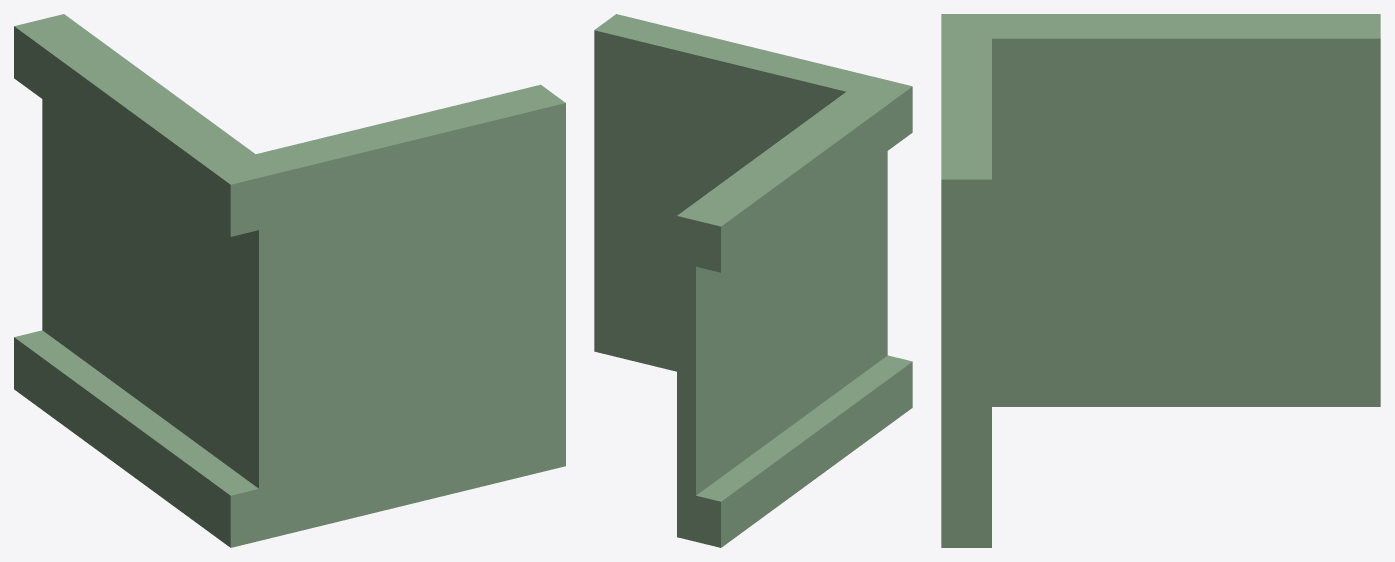
File: lowerCasePart2_obj.obj
3 views of the same model, side by side, from view 1: azimuth 30°, elevation 25°; view 2: azimuth 150°, elevation 25°; view 3: azimuth 270°, elevation 25° (orthographic). The views are drawn at different scales.
Parts seen in each view (by area): view 1: lowerCasePart2\Solid; view 2: lowerCasePart2\Solid; view 3: lowerCasePart2\Solid.
Boxes of the visible parts, bbox=[...] form: lowerCasePart2\Solid: bbox=[14, 14, 565, 547]; lowerCasePart2\Solid: bbox=[594, 14, 912, 547]; lowerCasePart2\Solid: bbox=[941, 14, 1380, 547].
Bounding box in the file's own units: 15.45 × 16 × 17.3.
